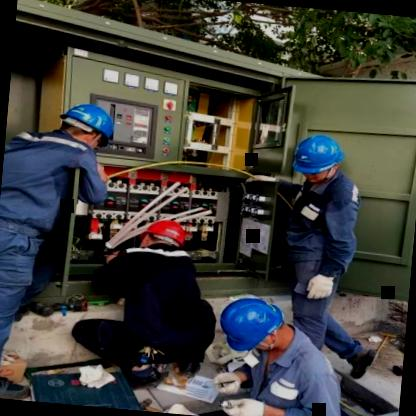helmet: (212, 292, 292, 366), (288, 130, 350, 188), (58, 100, 120, 153), (140, 216, 191, 256)
